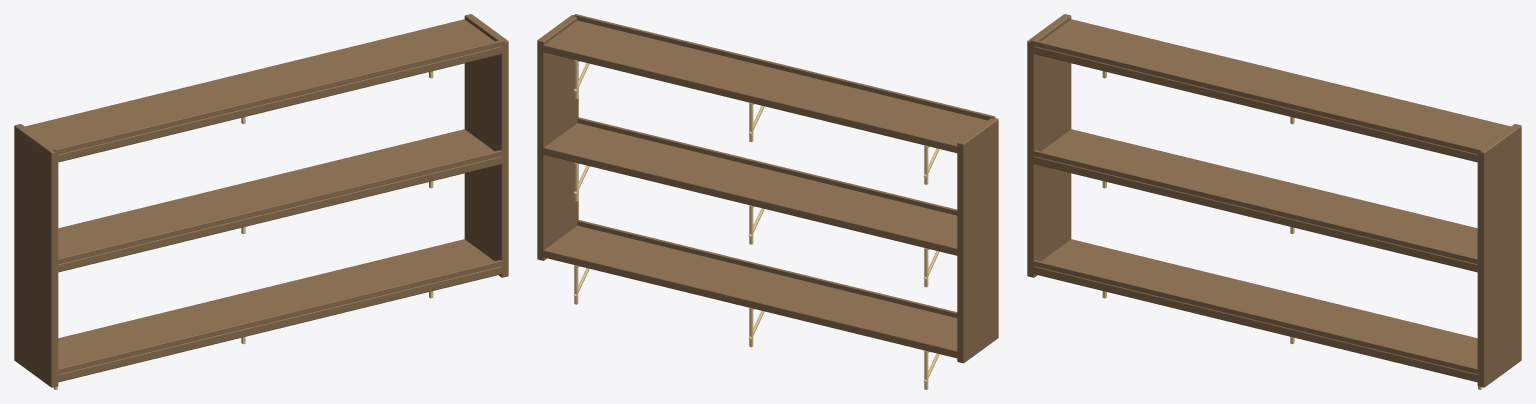
The model's file is wall_shelf.gltf.
The picture shows the model from 3 angles, left to right: view 1: azimuth 30°, elevation 25°; view 2: azimuth 150°, elevation 25°; view 3: azimuth 330°, elevation 25°; orthographic projection. The views are drawn at different scales.
Visible parts, largest first — view 1: Plank2, Plank0, Plank1, Side0, Side0.001, Lip2, Lip0, Lip1; view 2: Plank2, Plank0, Plank1, Side0, Side0.001, Lip2, Lip1, Lip0; view 3: Plank2, Plank0, Plank1, Side0.001, Side0, Lip2, Lip0, Lip1.
Part boxes in pixels (<box>): Plank2: <box>25,19,502,162</box>; Plank0: <box>56,239,504,382</box>; Plank1: <box>56,129,503,272</box>; Side0: <box>14,124,58,387</box>; Side0.001: <box>464,14,508,277</box>; Lip2: <box>53,39,505,154</box>; Lip0: <box>55,260,504,374</box>; Lip1: <box>55,150,504,264</box>; Plank2: <box>541,20,987,153</box>; Plank0: <box>541,225,959,358</box>; Plank1: <box>541,123,959,255</box>; Side0: <box>957,118,998,363</box>; Side0.001: <box>537,15,578,260</box>; Lip2: <box>574,14,995,120</box>; Lip1: <box>577,117,957,215</box>; Lip0: <box>577,220,957,317</box>; Plank2: <box>1031,19,1510,162</box>; Plank0: <box>1031,239,1479,382</box>; Plank1: <box>1031,129,1479,272</box>; Side0.001: <box>1477,124,1521,387</box>; Side0: <box>1027,14,1071,277</box>; Lip2: <box>1030,39,1482,154</box>; Lip0: <box>1031,260,1479,374</box>; Lip1: <box>1031,150,1479,264</box>.
Size of the model in its own units: 1.83 by 1.05 by 0.2661.
